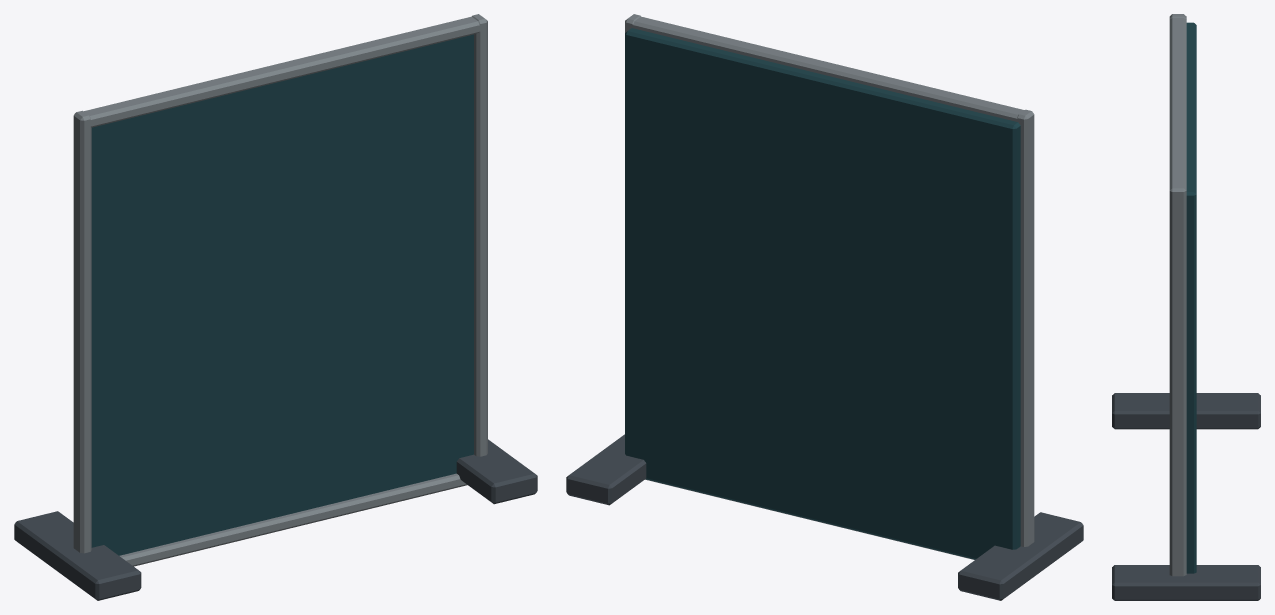
File: PartitionShort.fbx
3 renders of one model, left to right at view 1: azimuth 30°, elevation 25°; view 2: azimuth 150°, elevation 25°; view 3: azimuth 270°, elevation 25°, orthographic. The views are drawn at different scales.
Visible parts, largest first — view 1: PartitionShort; view 2: PartitionShort; view 3: PartitionShort.
Boxes of the visible parts, x1=… form: PartitionShort: x1=14, y1=14, x2=537, y2=600; PartitionShort: x1=566, y1=14, x2=1083, y2=600; PartitionShort: x1=1112, y1=14, x2=1260, y2=600.
Bounding box in the file's own units: 134 × 134 × 44.
Materials: 1 (1 with a texture image).
